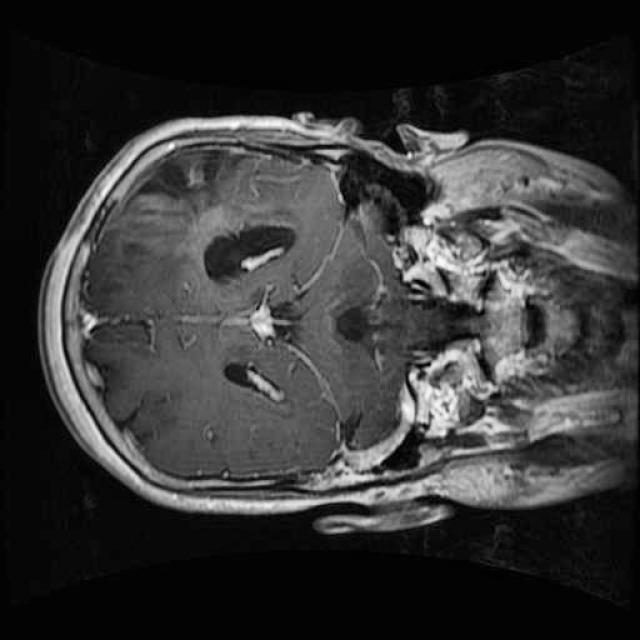Non-Tumor: (108, 129, 271, 264)
